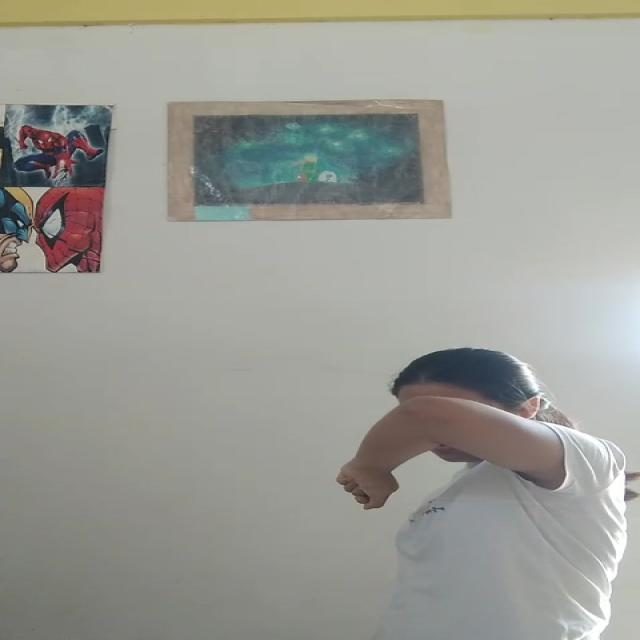7_mano_rostro: (380, 396, 574, 475)
